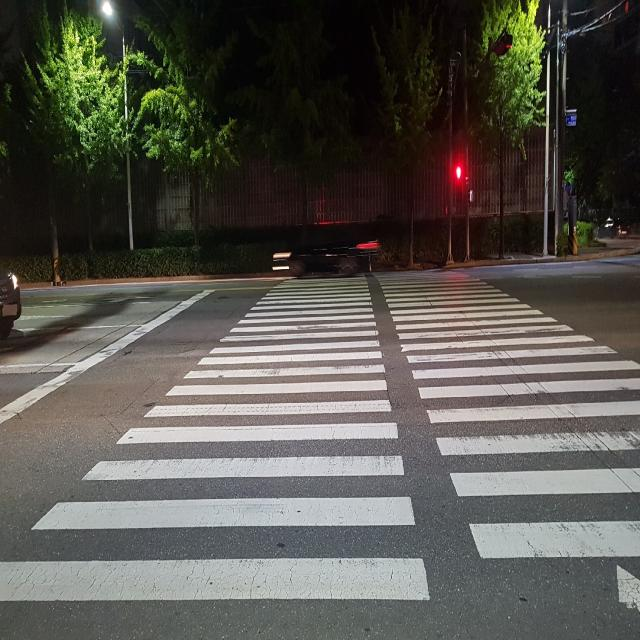빨간불: (454, 164, 462, 190)
횡단보도: (0, 270, 640, 640)
